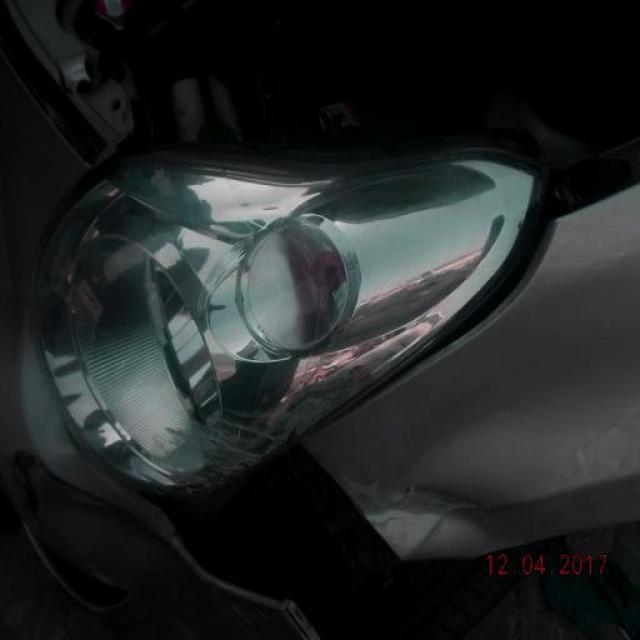car damage: (141, 444, 404, 637), (120, 411, 313, 498), (340, 473, 523, 559), (38, 456, 124, 516), (13, 450, 43, 535)
